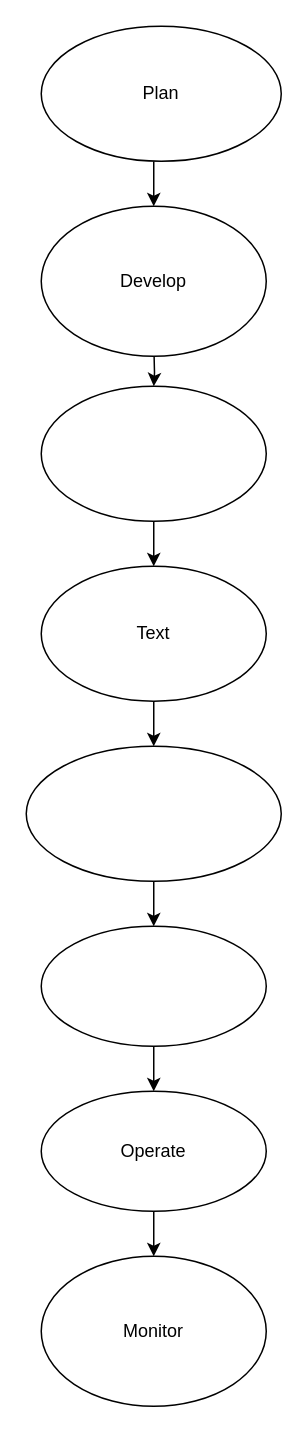
Image size: 308x1433. Some labels were removed from this diagram. Each missing label, with the box of its shape:
Build: (40, 385, 266, 521)
Deploy: (40, 925, 266, 1046)
Relase: (25, 745, 281, 881)
